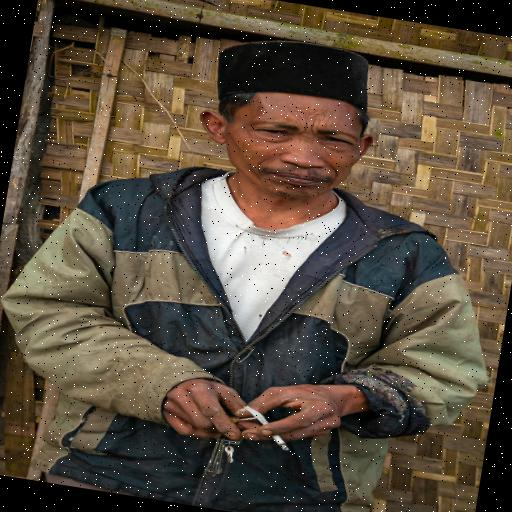pegang rokok: (178, 349, 328, 487)
